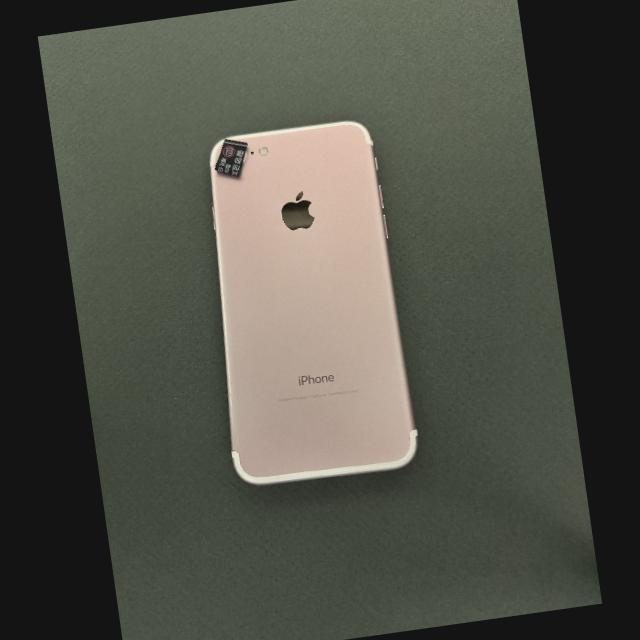phone: (210, 122, 417, 484)
sticker: (215, 138, 248, 178)
